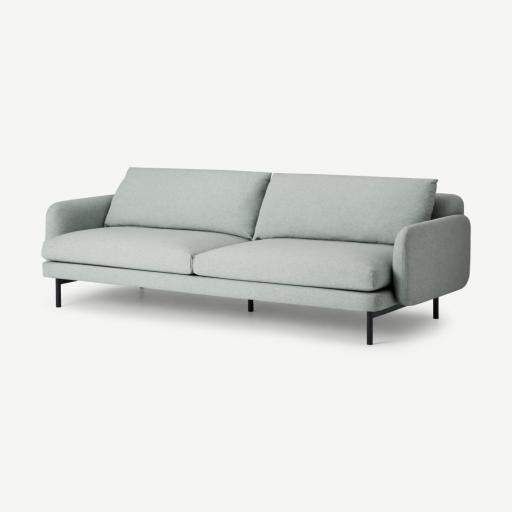back_cushion: (105, 168, 436, 244)
base: (43, 262, 397, 311)
left_arm: (393, 214, 470, 318)
legs: (367, 305, 404, 344), (56, 278, 73, 307), (433, 298, 438, 318), (248, 300, 254, 312)
right_arm: (45, 195, 113, 241)
seat_cushion: (43, 227, 390, 291)
two-seater: (0, 0, 511, 512)
